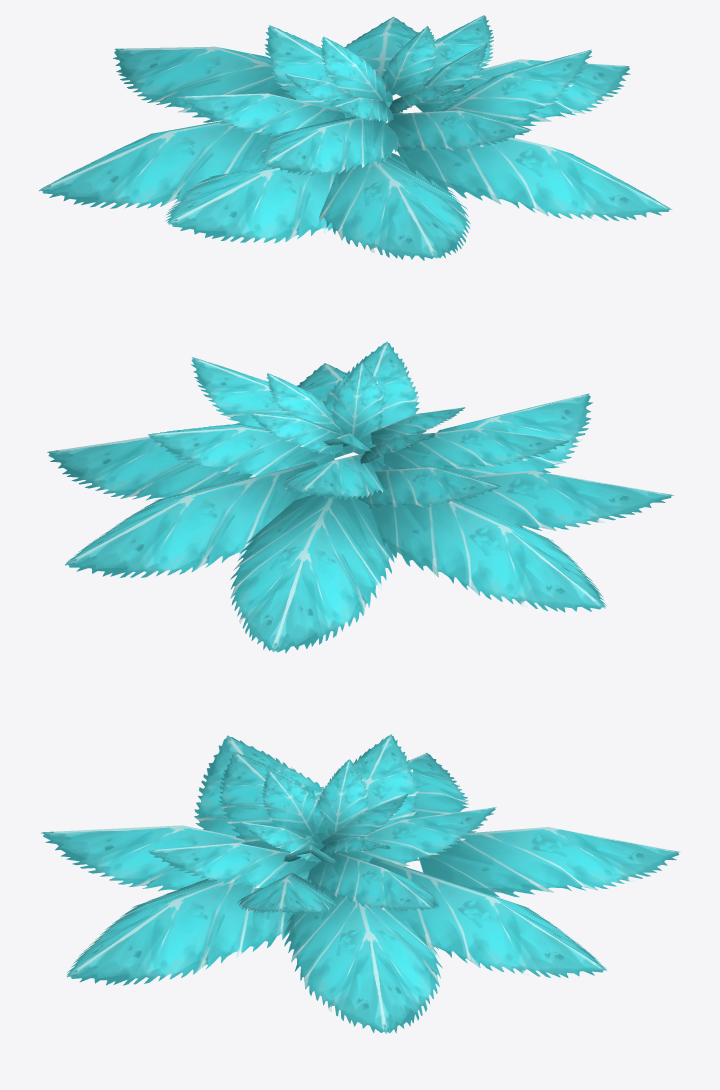
File: M_Bush1.FBX
3 renders of one model, top to bottom at view 1: azimuth 30°, elevation 25°; view 2: azimuth 150°, elevation 25°; view 3: azimuth 270°, elevation 25°, orthographic.
Parts seen in each view (by area): view 1: Object147; view 2: Object147; view 3: Object147.
Boxes of the visible parts, x1,y1,x2,y2 form: Object147: (39,15,672,260); Object147: (47,341,674,653); Object147: (41,734,680,1033).
Bounding box in the file's own units: 564 × 126 × 563.
